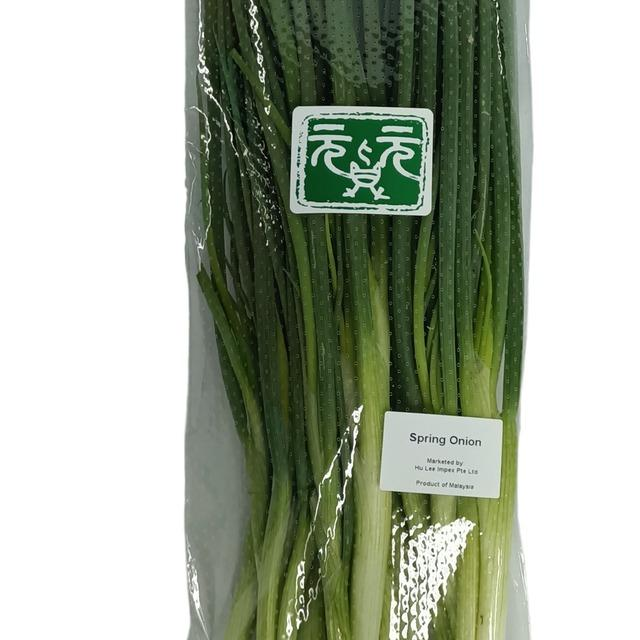green_onion: (181, 0, 549, 640)
